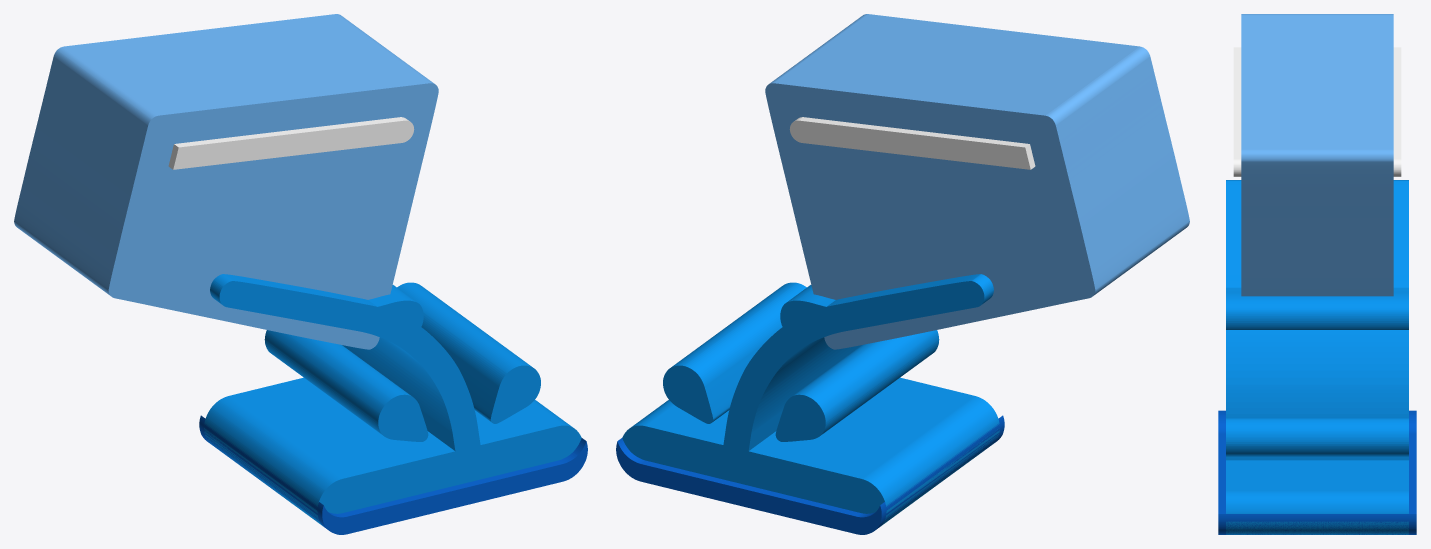
The model's file is U+1FAD7.obj.
3 renders of one model, left to right at view 1: azimuth 30°, elevation 25°; view 2: azimuth 150°, elevation 25°; view 3: azimuth 270°, elevation 25°, orthographic. The views are drawn at different scales.
Visible parts, largest first — view 1: U+1FAD7_layer00_obj00, U+1FAD7_layer02_obj00, U+1FAD7_layer03_obj00, U+1FAD7_layer01_obj00; view 2: U+1FAD7_layer00_obj00, U+1FAD7_layer02_obj00, U+1FAD7_layer03_obj00, U+1FAD7_layer01_obj00; view 3: U+1FAD7_layer02_obj00, U+1FAD7_layer00_obj00, U+1FAD7_layer03_obj00, U+1FAD7_layer01_obj00.
Boxes of the visible parts, <box> form: U+1FAD7_layer00_obj00: <box>14,14,438,349</box>; U+1FAD7_layer02_obj00: <box>204,274,581,526</box>; U+1FAD7_layer03_obj00: <box>199,415,587,534</box>; U+1FAD7_layer01_obj00: <box>168,117,414,169</box>; U+1FAD7_layer00_obj00: <box>765,14,1189,349</box>; U+1FAD7_layer02_obj00: <box>622,274,999,526</box>; U+1FAD7_layer03_obj00: <box>616,415,1004,534</box>; U+1FAD7_layer01_obj00: <box>789,117,1035,169</box>; U+1FAD7_layer02_obj00: <box>1226,180,1408,534</box>; U+1FAD7_layer00_obj00: <box>1241,14,1393,296</box>; U+1FAD7_layer03_obj00: <box>1218,410,1416,534</box>; U+1FAD7_layer01_obj00: <box>1233,47,1401,176</box>.
Bounding box in the file's own units: 0.5681 × 0.5262 × 0.26.
